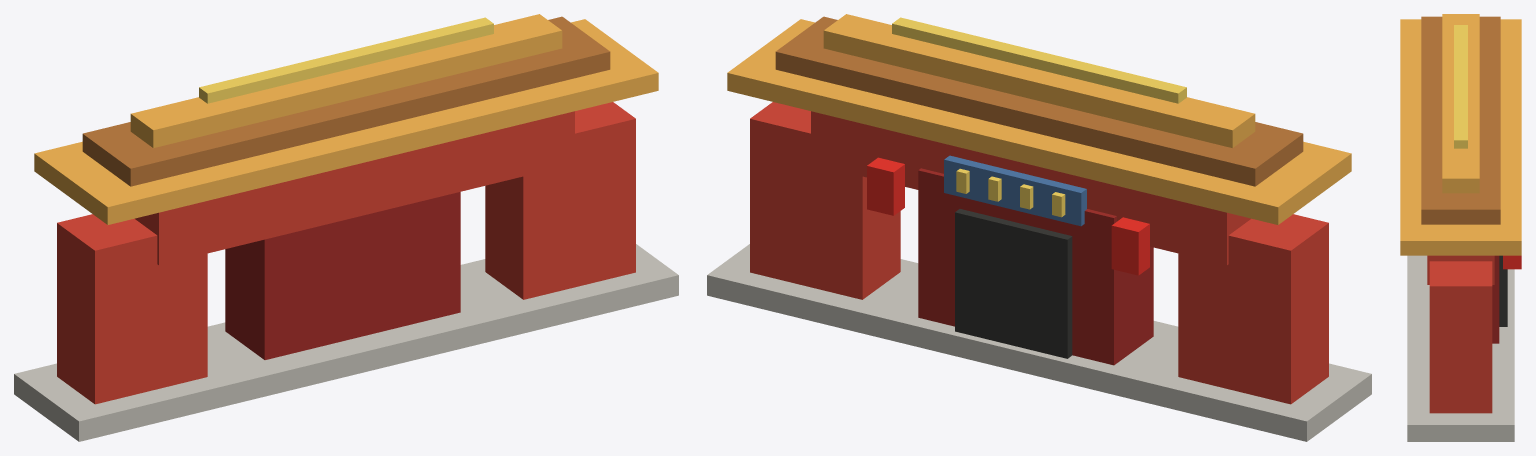
File: voxel-beijing-hutong-gate.gltf
The picture shows the model from 3 angles, left to right: view 1: azimuth 30°, elevation 25°; view 2: azimuth 150°, elevation 25°; view 3: azimuth 270°, elevation 25°; orthographic projection. The views are drawn at different scales.
Bounding box in the file's own units: 4.9 × 2.26 × 1.04.
